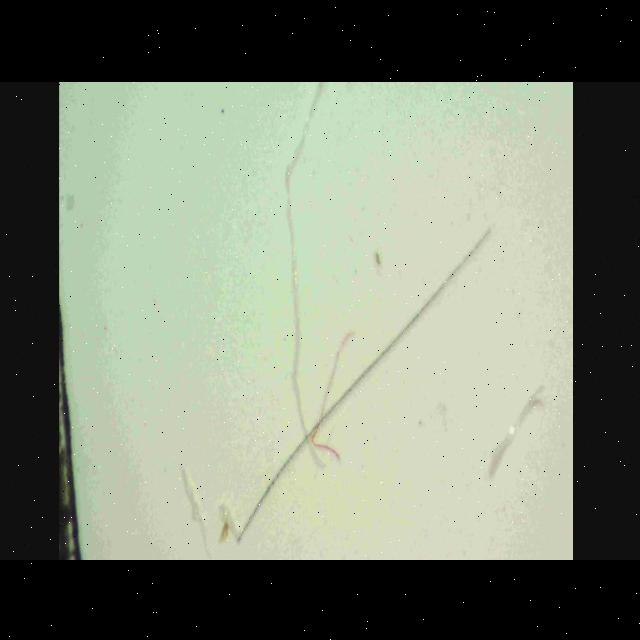Fibre: (218, 206, 488, 552), (282, 80, 376, 480), (476, 370, 550, 500), (177, 441, 215, 559)
